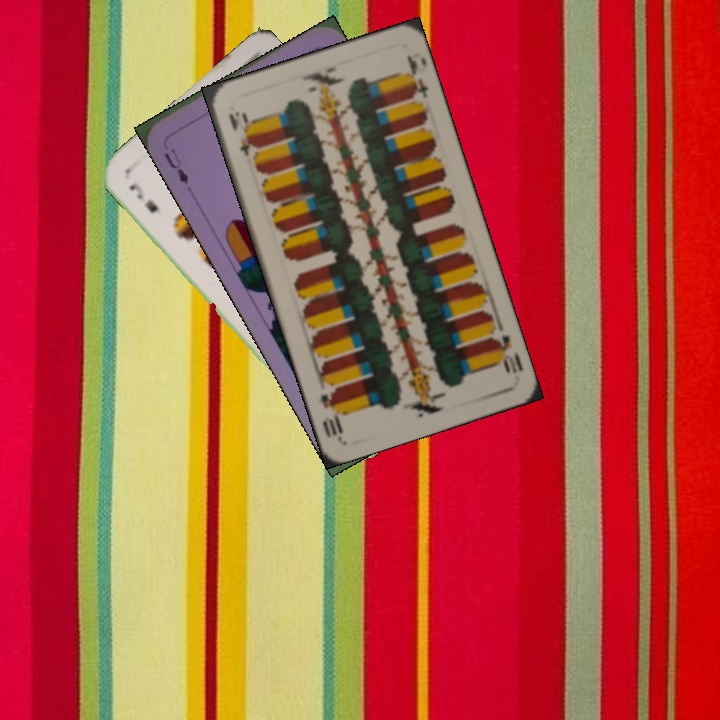E10: (485, 324, 525, 376), (224, 107, 257, 159)
E7: (125, 179, 161, 216)
EU: (160, 144, 191, 187)
